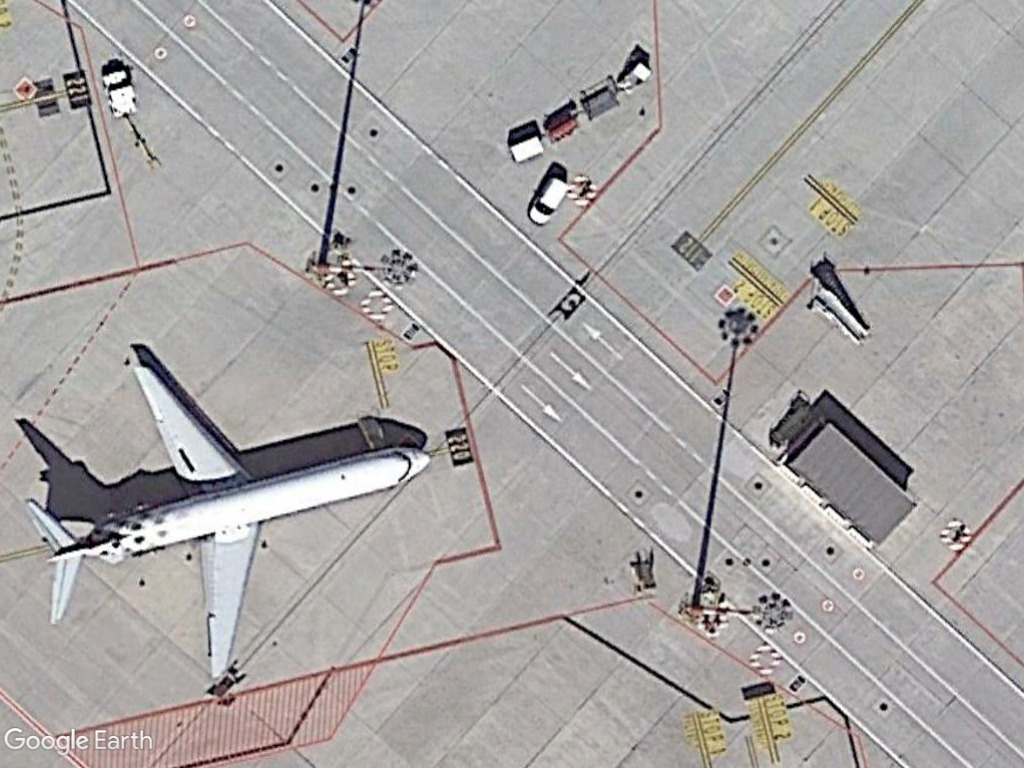airliner: (11, 349, 438, 692)
stairtruck: (806, 279, 872, 351)
van: (523, 175, 574, 229)
